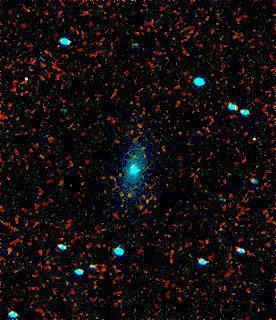star: (114, 179, 144, 209)
